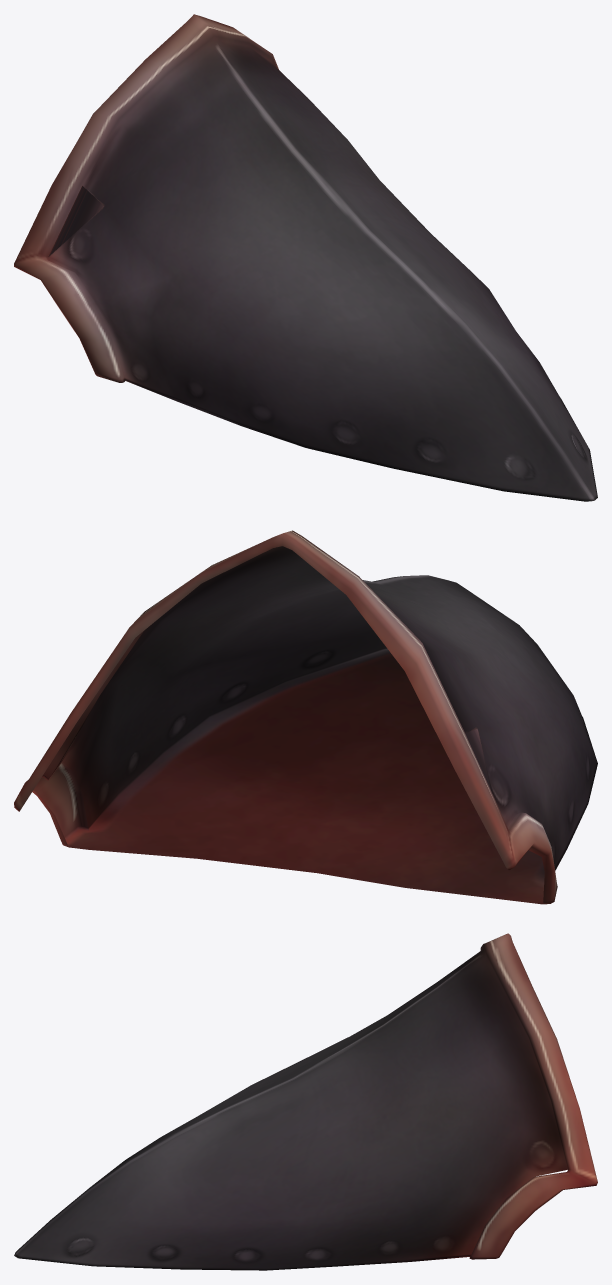
The model's file is sm_skortched_human_feet_front_l.gltf.
The picture shows the model from 3 angles, top to bottom: view 1: azimuth 30°, elevation 25°; view 2: azimuth 150°, elevation 25°; view 3: azimuth 270°, elevation 25°; orthographic projection. The views are drawn at different scales.
Parts seen in each view (by area): view 1: sm_skortched_human_feet_front_L; view 2: sm_skortched_human_feet_front_L; view 3: sm_skortched_human_feet_front_L.
Part boxes in pixels (box(x1,y1,x2,y2)): sm_skortched_human_feet_front_L: box(14, 14, 597, 501); sm_skortched_human_feet_front_L: box(14, 530, 597, 904); sm_skortched_human_feet_front_L: box(14, 933, 597, 1270).
Bounding box in the file's own units: 0.1855 × 0.1471 × 0.2867.
1 material, 1 textured.
